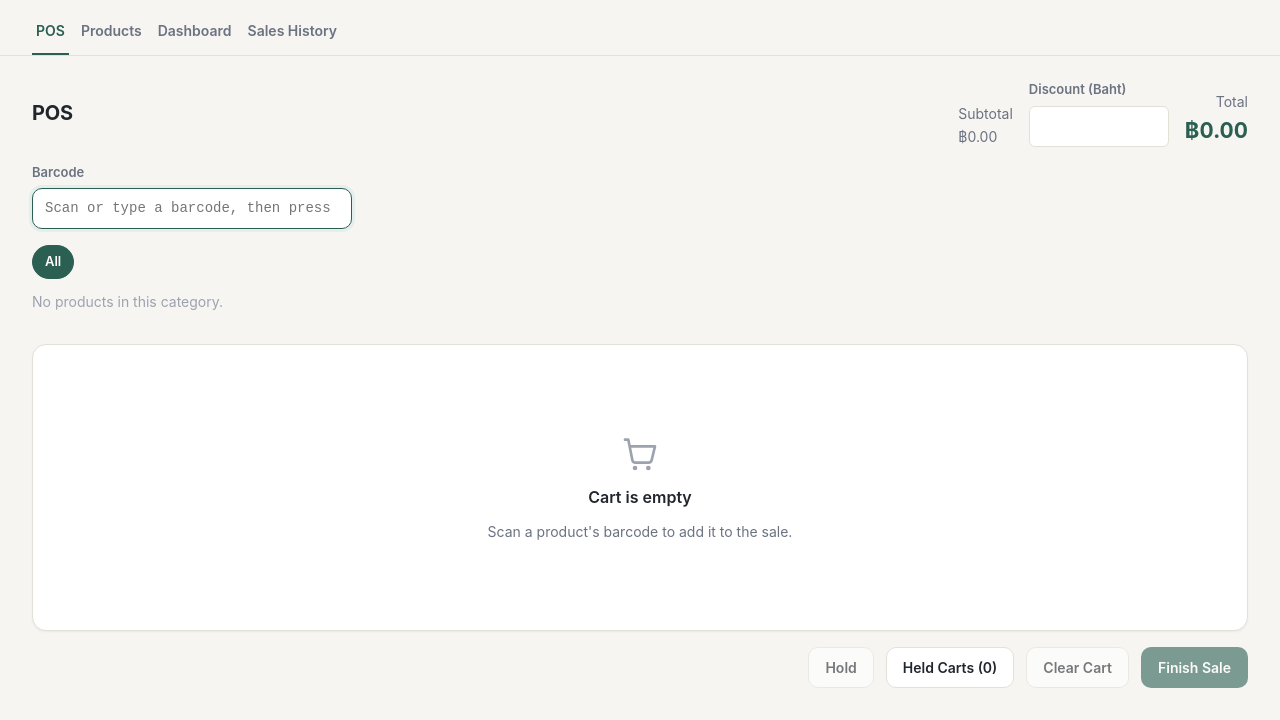
Test: App › switches to the Dashboard screen when its tab is clicked
The image size is (1280, 720).
Click the button "Dashboard".
click(195, 34)  # box top-left (154, 12), bottom-right (236, 55)
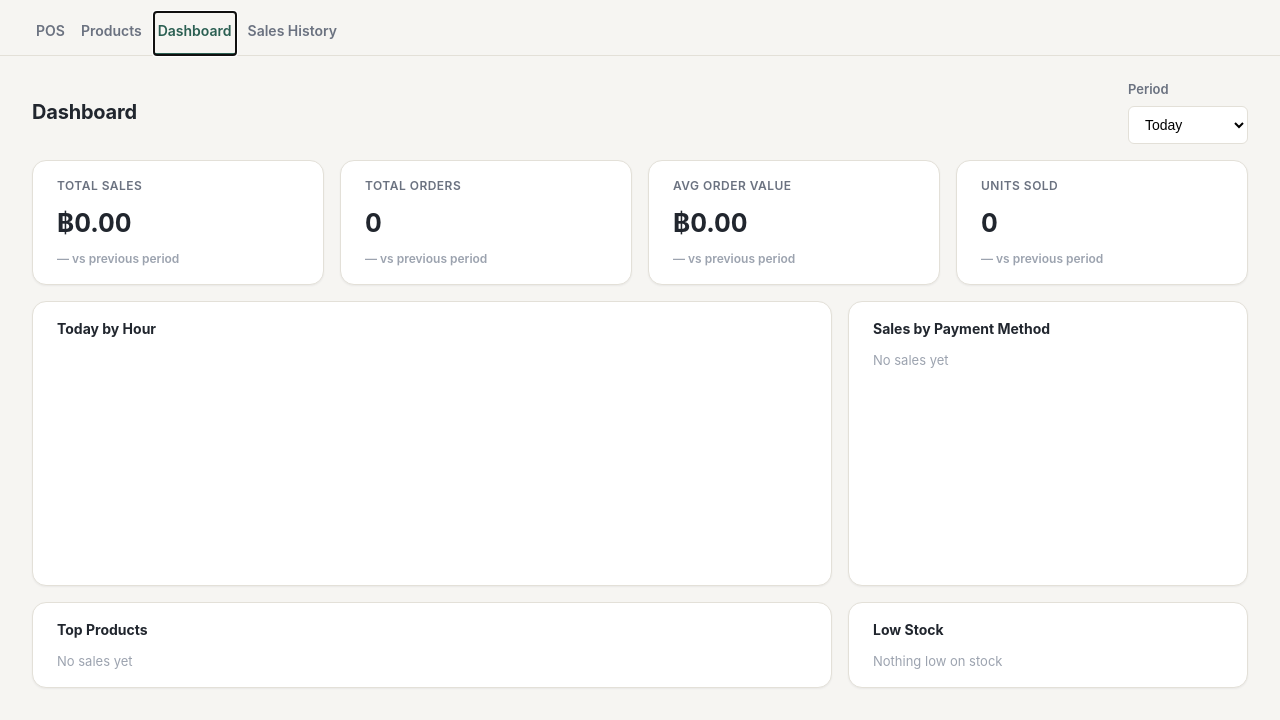
Expected: the text "Total Sales" is shown, top-left (57, 178), bottom-right (142, 192)
